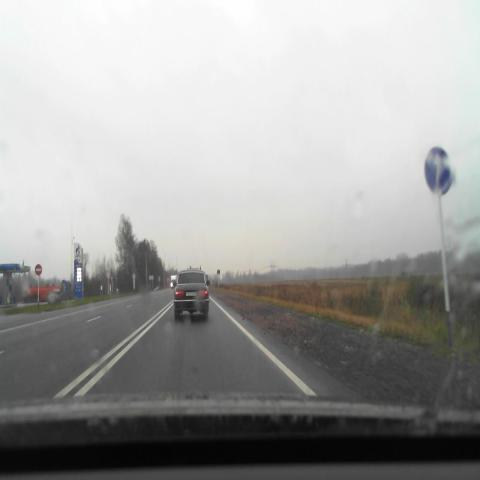4_1_1: (423, 145, 452, 197)
